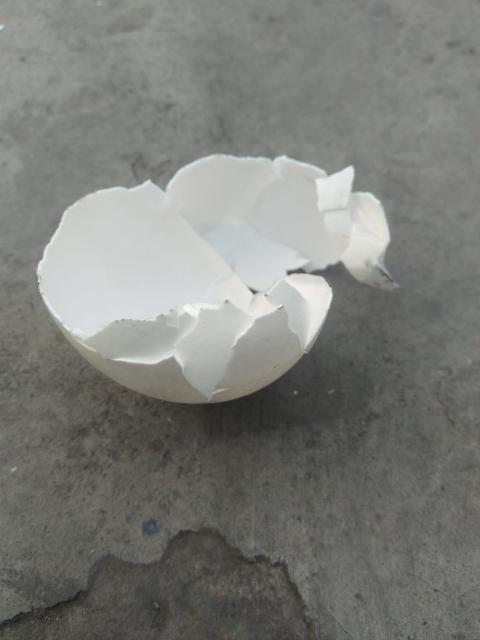Roto: (35, 152, 398, 405)
